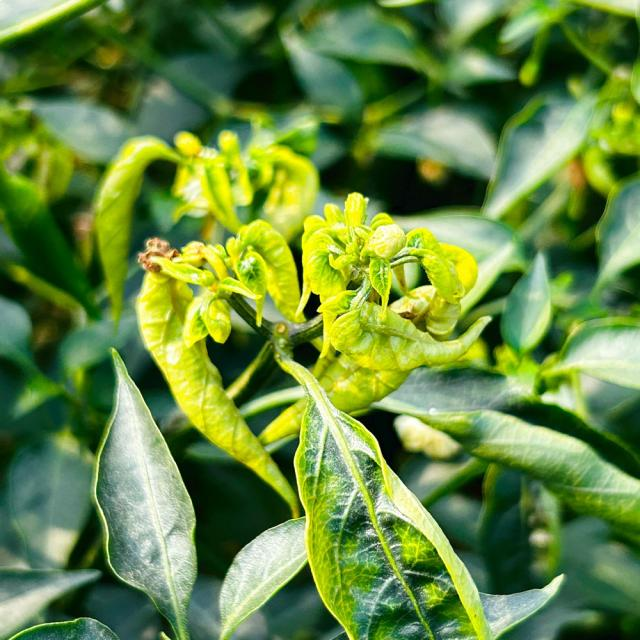Chilli_Leaf_Curl: (86, 129, 564, 638), (133, 190, 492, 514), (274, 348, 492, 638), (133, 219, 303, 516), (89, 127, 319, 334), (379, 398, 639, 542), (297, 191, 491, 373), (90, 346, 198, 638), (217, 514, 309, 638)
